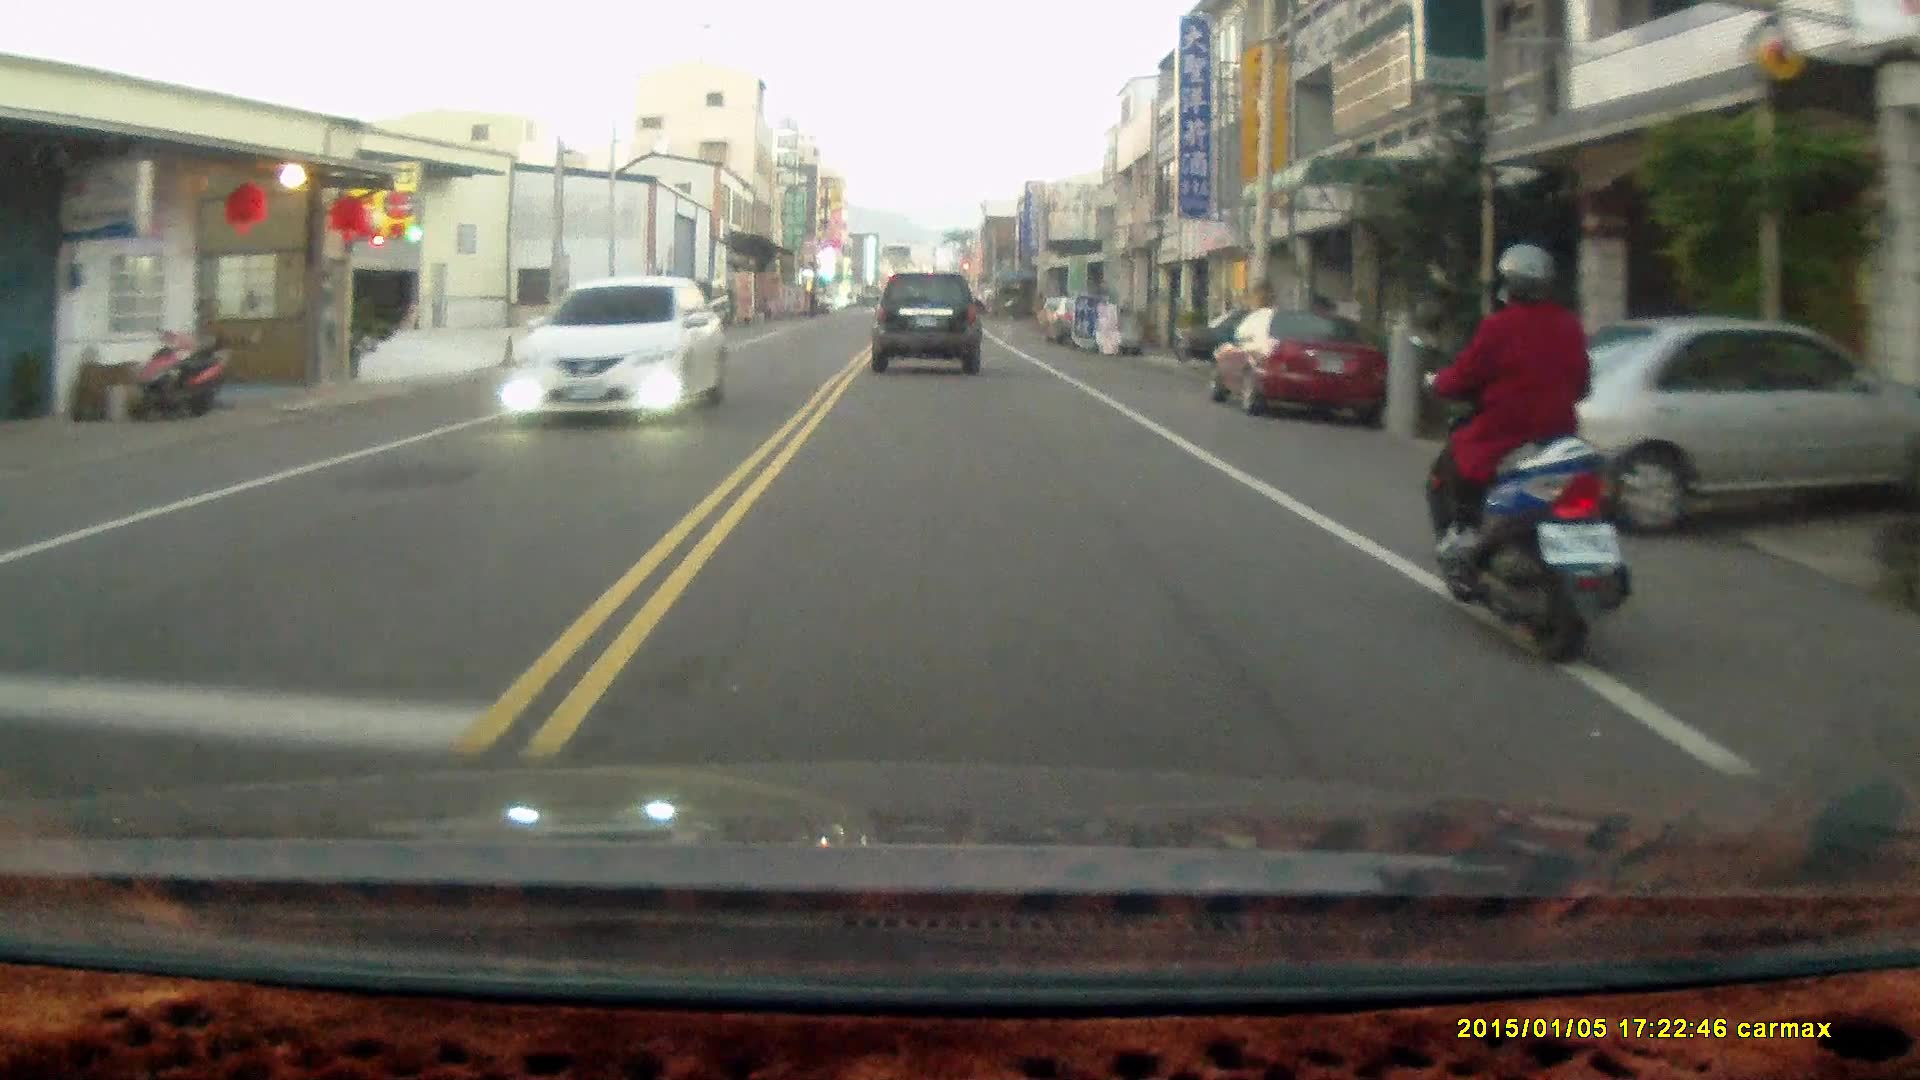rider: (1410, 241, 1633, 671)
vehicle: (1463, 319, 1920, 542), (507, 277, 730, 425), (1207, 306, 1389, 424), (872, 271, 985, 379), (656, 278, 732, 334)
